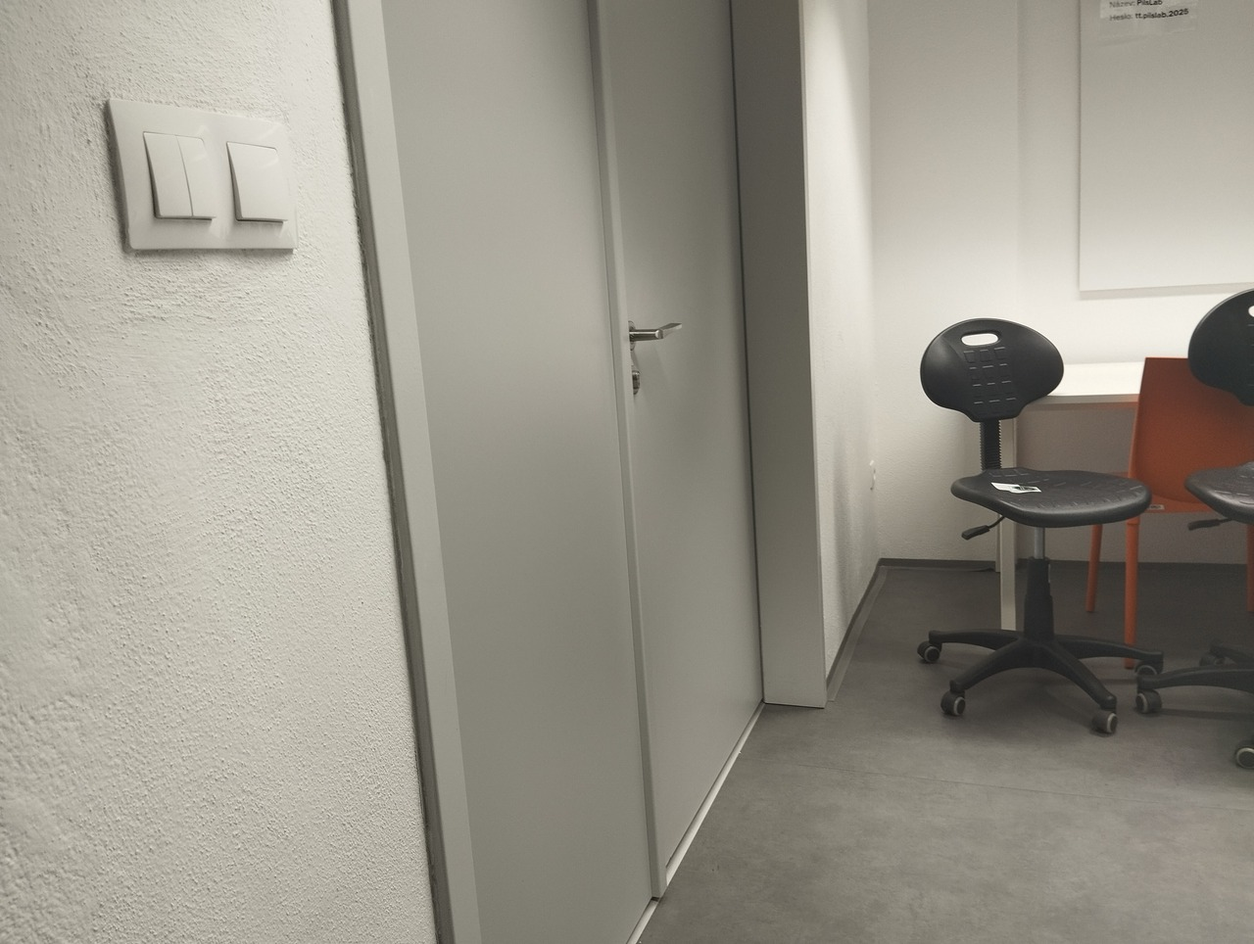Door-handle: (619, 314, 684, 351)
